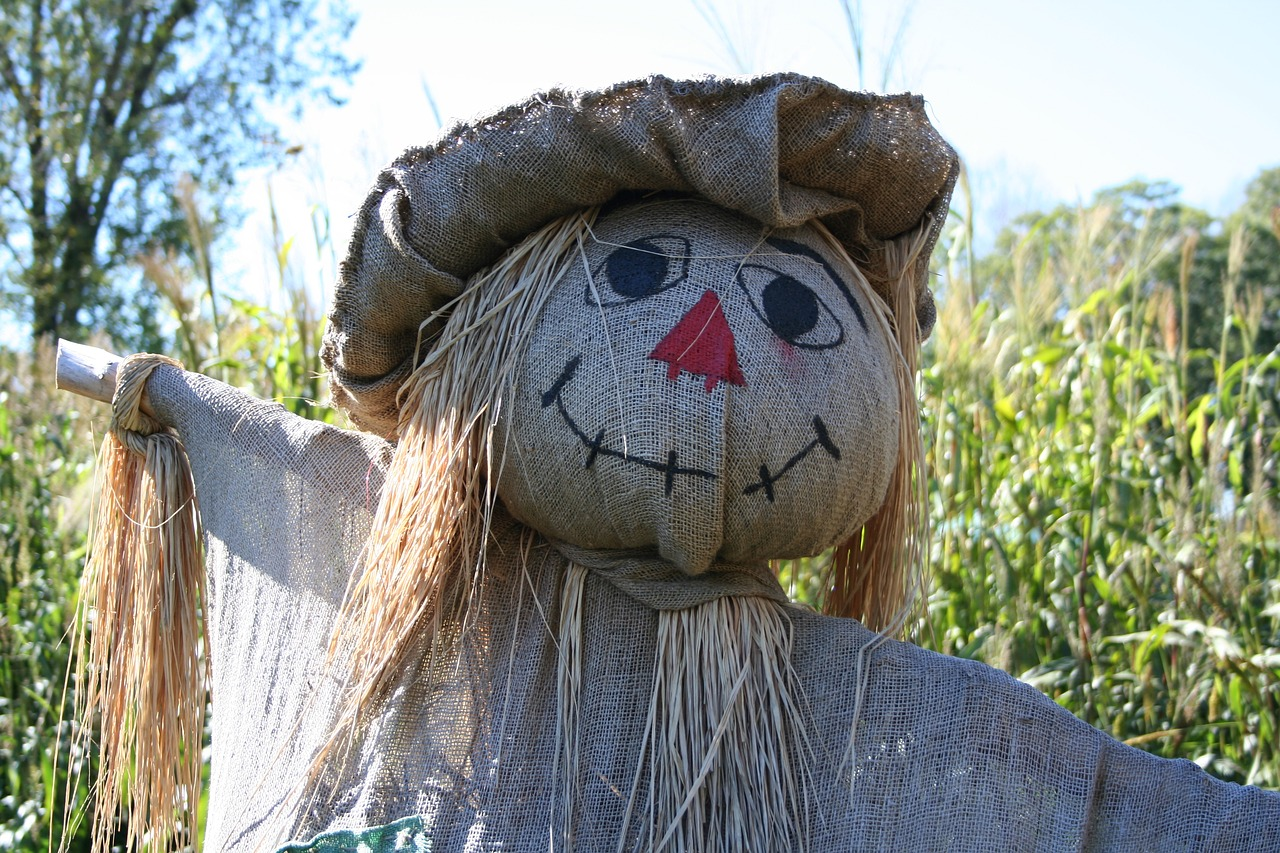person-like: (44, 63, 1275, 853)
